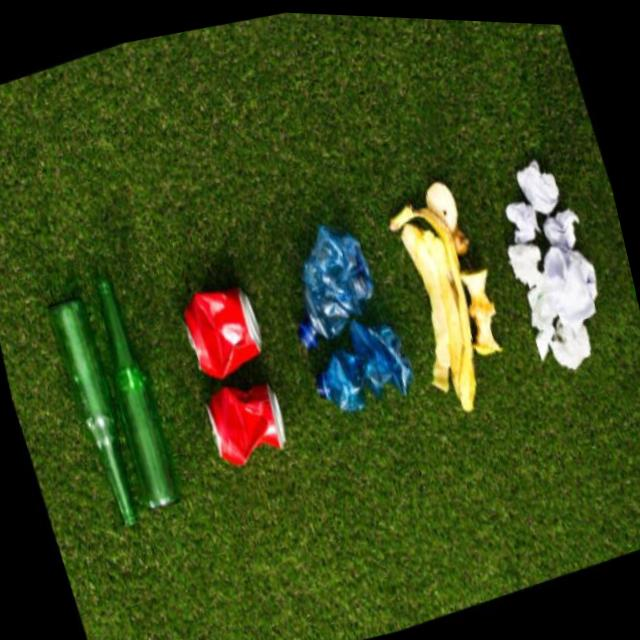clothes: (141, 231, 332, 556)
fabric: (362, 156, 534, 443)
foam box: (29, 241, 212, 560)
food: (458, 114, 640, 411)
leaf: (257, 184, 433, 460)
